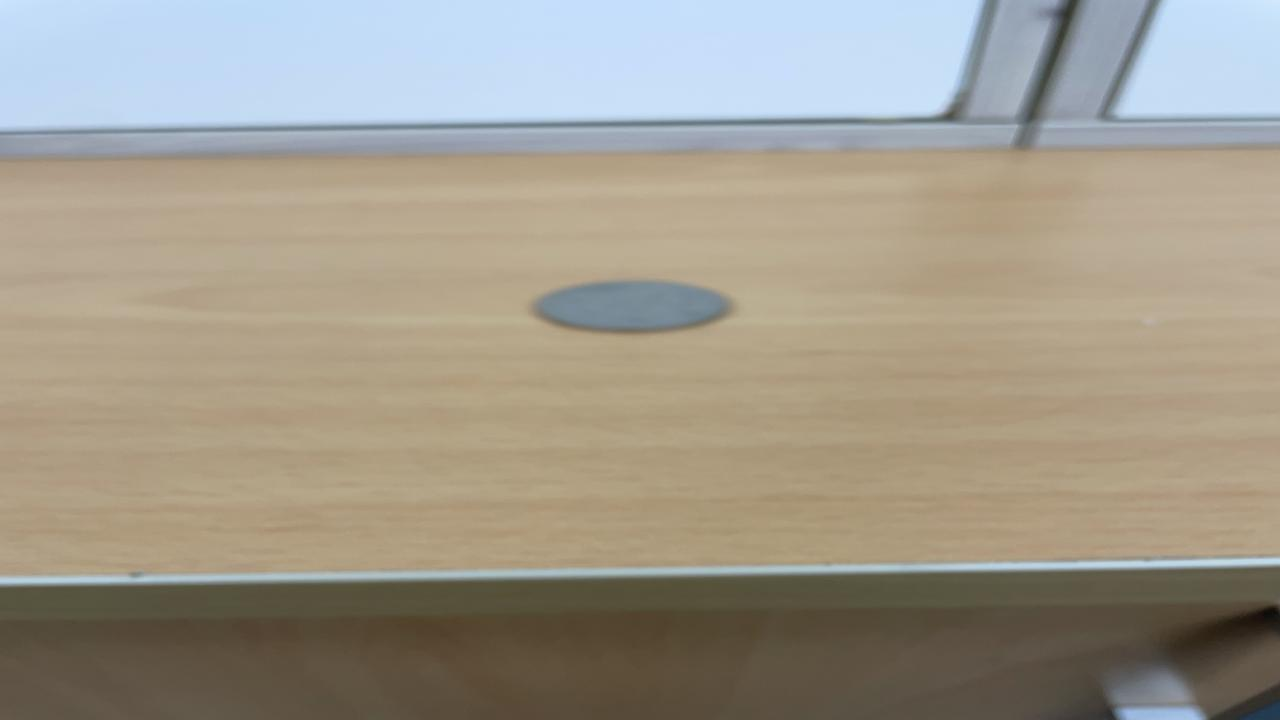coin: (524, 278, 738, 334)
